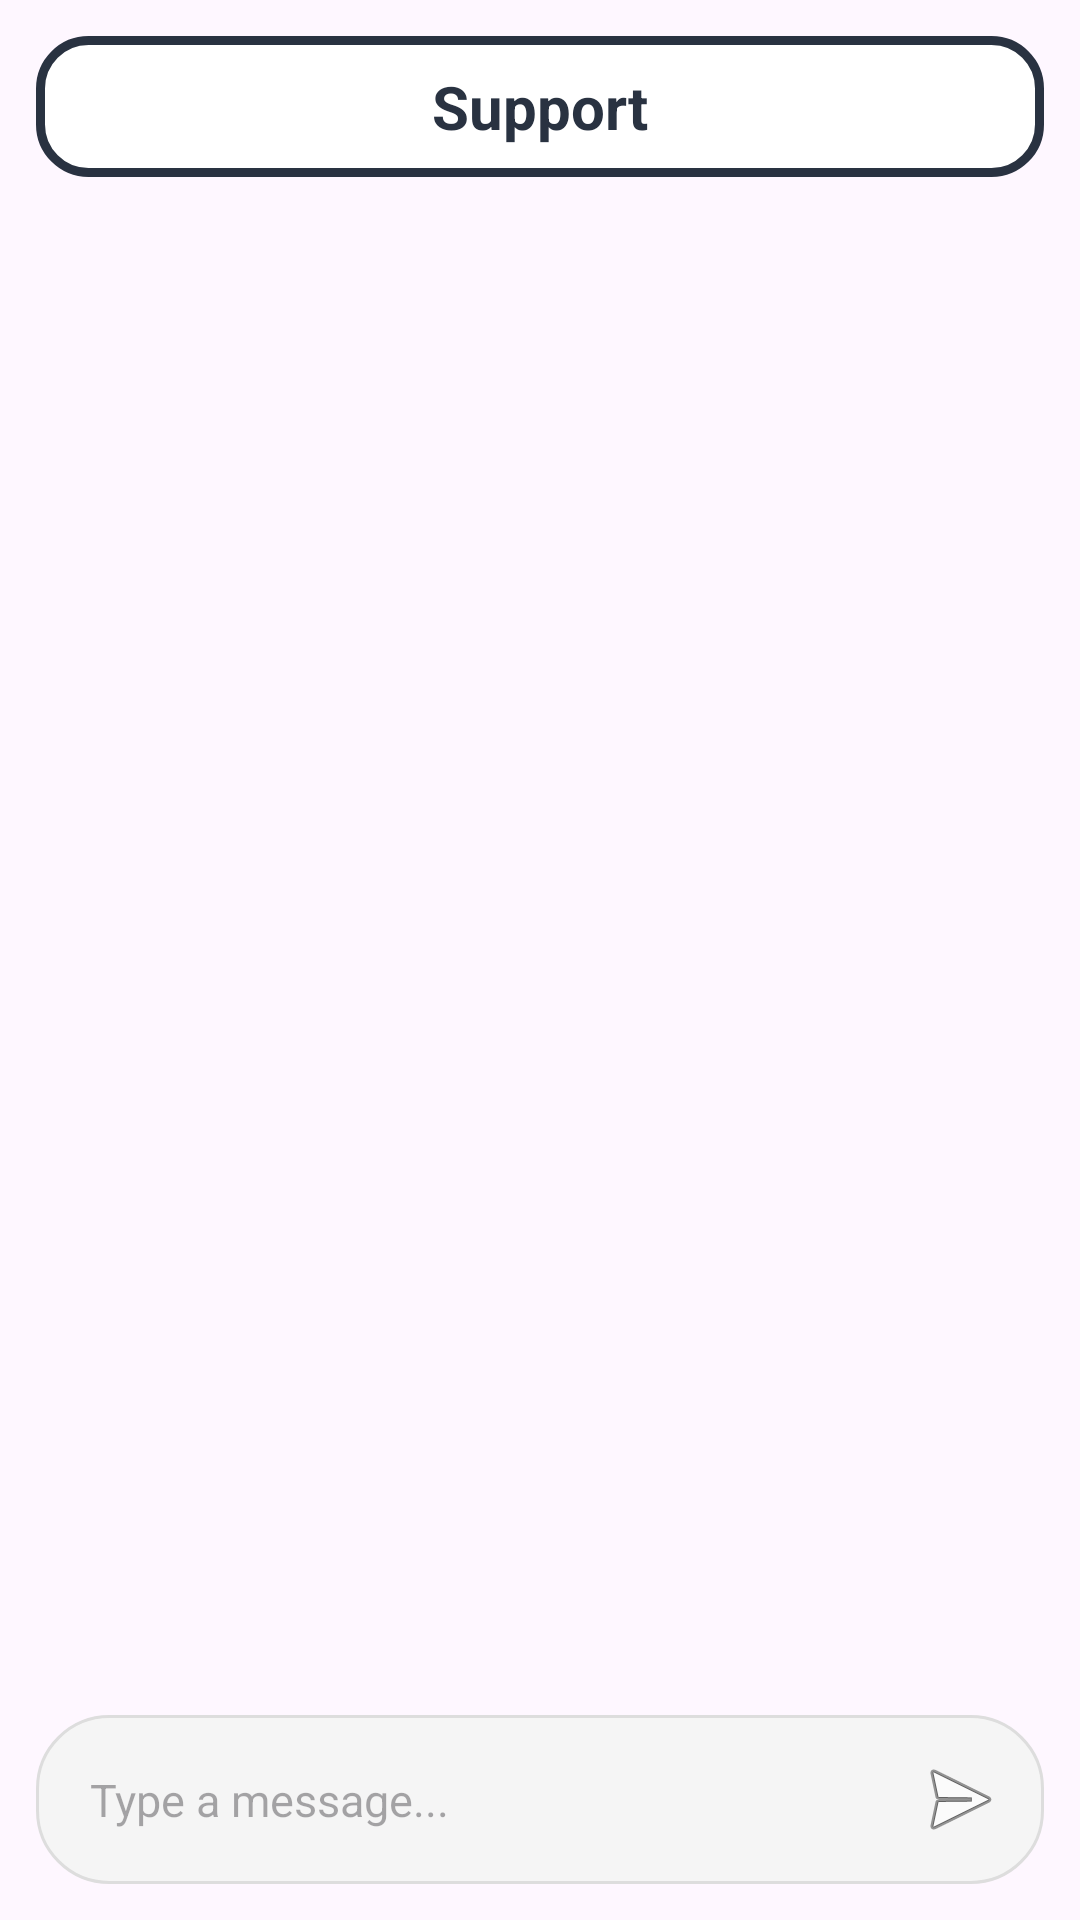

Icon bounding boxes for this 1080×1920 phone screenshot, format {"left": x1, "top": y1, "right": x2, "bottom": y2}:
Send: {"left": 930, "top": 1769, "right": 992, "bottom": 1830}
